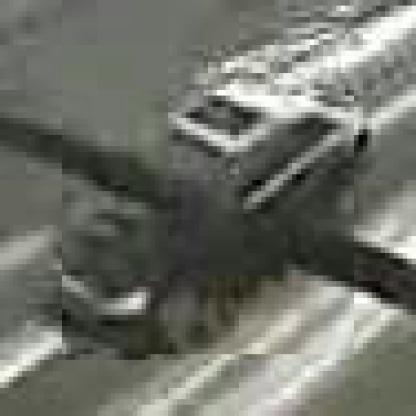car: (59, 97, 355, 361)
